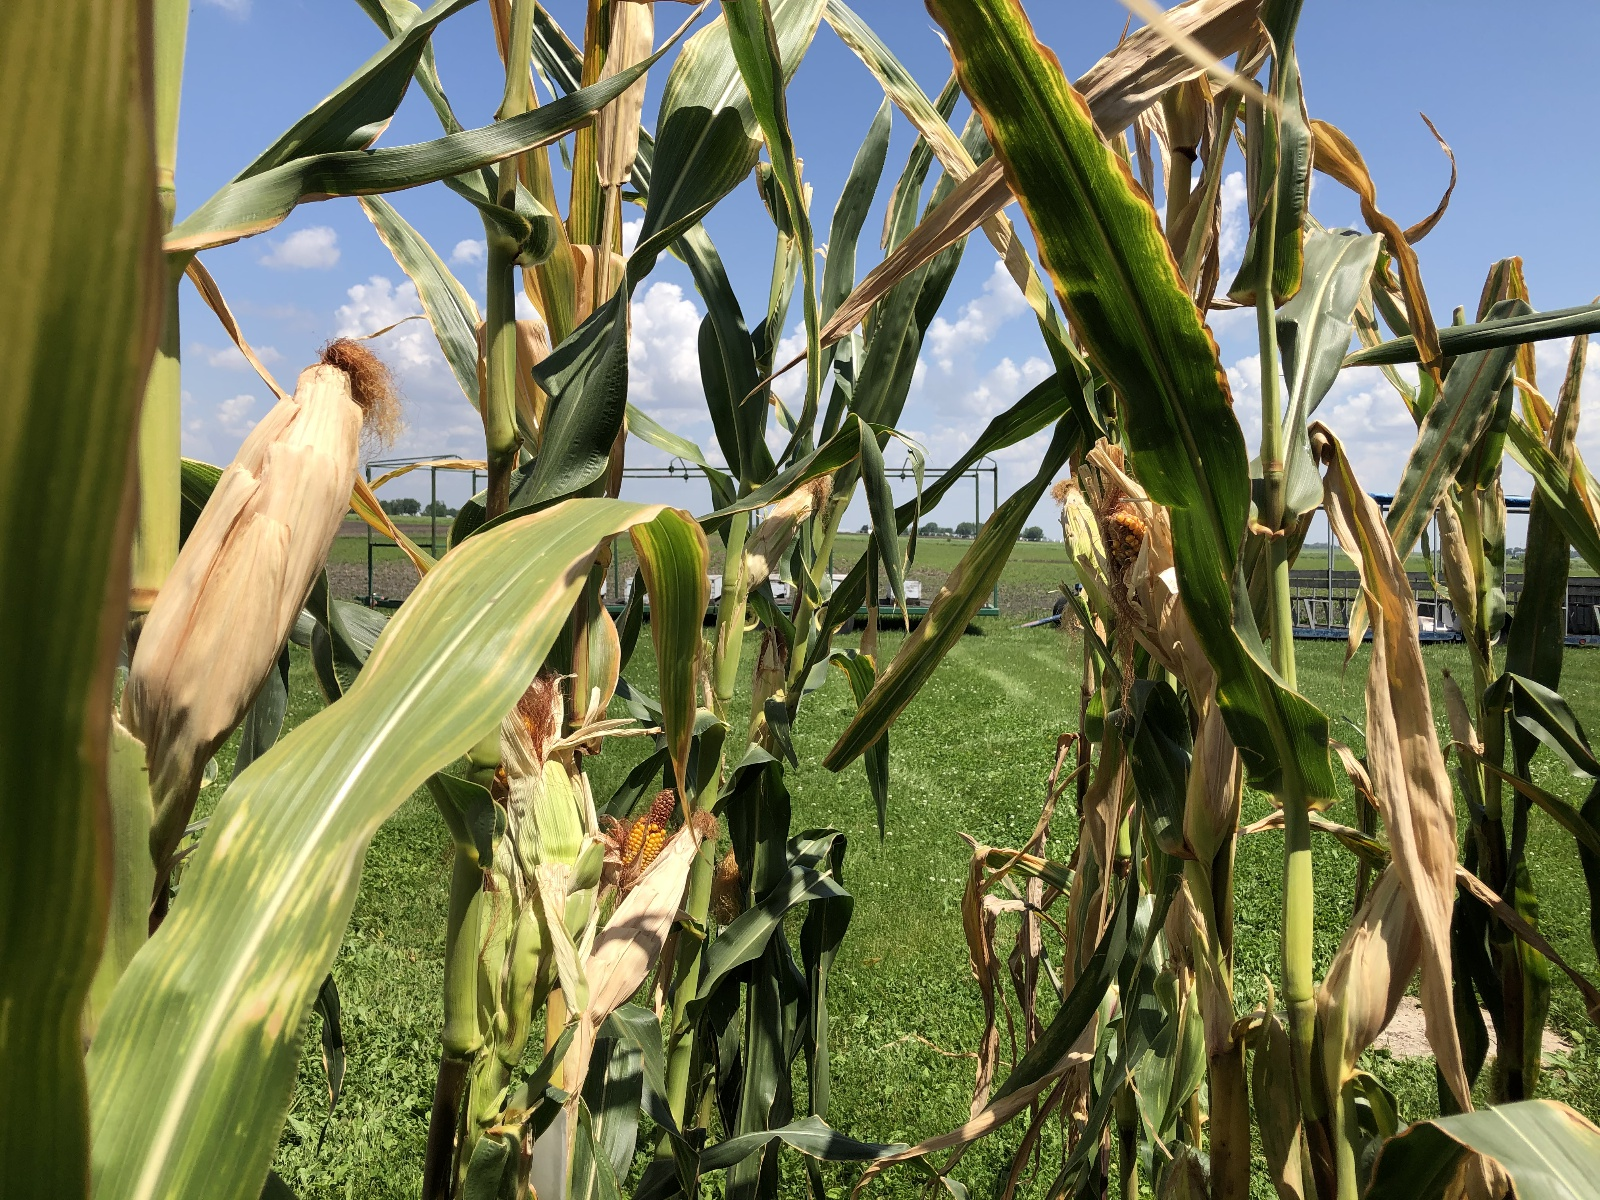ear: (121, 335, 393, 734), (587, 809, 721, 1002), (1096, 492, 1206, 689), (1317, 862, 1424, 1045), (494, 671, 583, 879), (1038, 461, 1128, 623), (736, 471, 835, 584), (614, 775, 685, 882)
